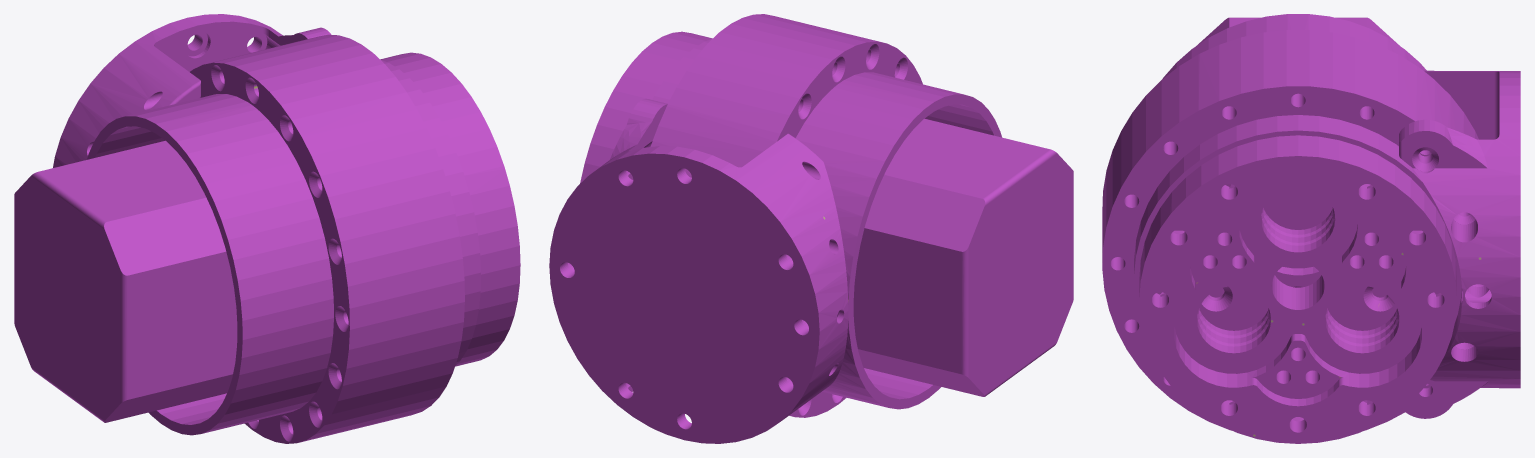
3 views of the same model, side by side, from view 1: azimuth 30°, elevation 25°; view 2: azimuth 150°, elevation 25°; view 3: azimuth 270°, elevation 25° (orthographic).
Visible parts, largest first — view 1: link4; view 2: link4; view 3: link4.
Part boxes in pixels (x1,y1,x2,y2): link4: (14,14,520,443); link4: (549,14,1073,443); link4: (1102,14,1520,443).
Bounding box in the file's own units: 0.0818 × 0.0739 × 0.079.
1 material, 1 textured.
